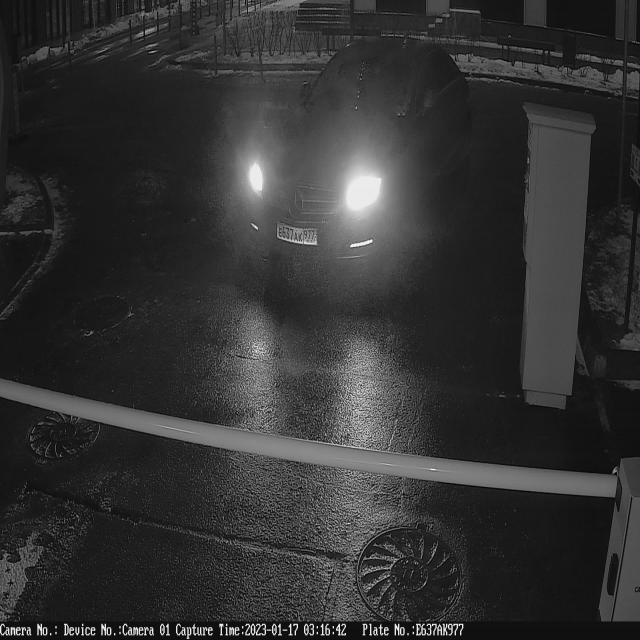car-plate-numbers: (276, 218, 321, 254)
